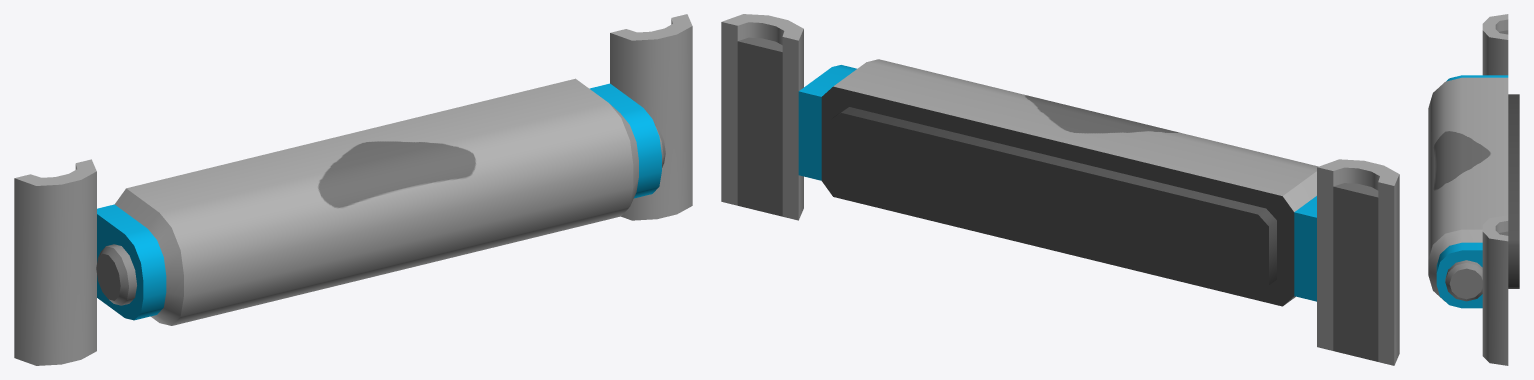
Rendered from Conveyor_Belt_2nd_Cap_Start.fbx.
3 views of the same model, side by side, from view 1: azimuth 30°, elevation 25°; view 2: azimuth 150°, elevation 25°; view 3: azimuth 270°, elevation 25° (orthographic). The views are drawn at different scales.
Visible parts, largest first — view 1: Conveyor_Belt_2nd_Cap_Start; view 2: Conveyor_Belt_2nd_Cap_Start; view 3: Conveyor_Belt_2nd_Cap_Start.
Boxes of the visible parts, bbox=[...] form: Conveyor_Belt_2nd_Cap_Start: bbox=[14, 14, 692, 365]; Conveyor_Belt_2nd_Cap_Start: bbox=[721, 14, 1399, 365]; Conveyor_Belt_2nd_Cap_Start: bbox=[1428, 14, 1519, 365].
Size of the model in its own units: 128 by 32.6 by 21.65.
